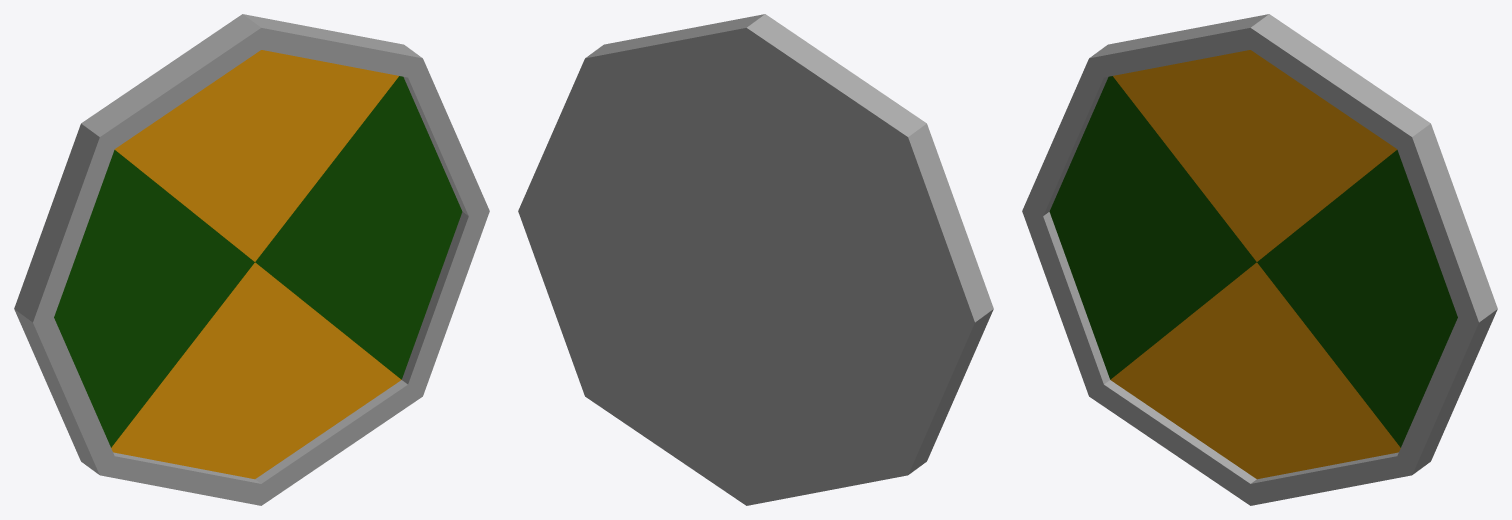
File: ItemEscudo_1.fbx
3 views of the same model, side by side, from view 1: azimuth 30°, elevation 25°; view 2: azimuth 150°, elevation 25°; view 3: azimuth 330°, elevation 25° (orthographic).
Visible parts, largest first — view 1: EscudoA; view 2: EscudoA; view 3: EscudoA.
Part boxes in pixels (left/top/right/bottom): EscudoA: left=14, top=14, right=489, bottom=505; EscudoA: left=518, top=14, right=993, bottom=505; EscudoA: left=1022, top=14, right=1497, bottom=505.
Bounding box in the file's own units: 70 × 70 × 5.
